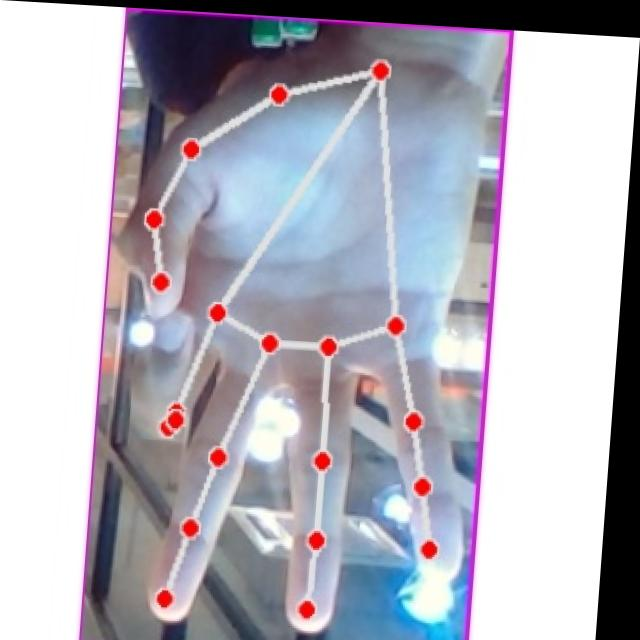F: (113, 33, 503, 635)
